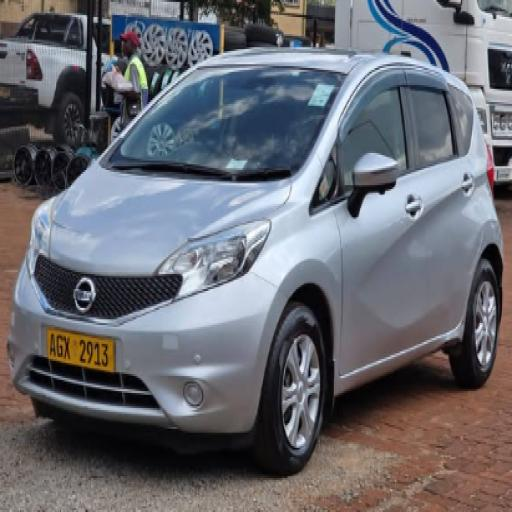number-plates: (48, 328, 113, 369)
